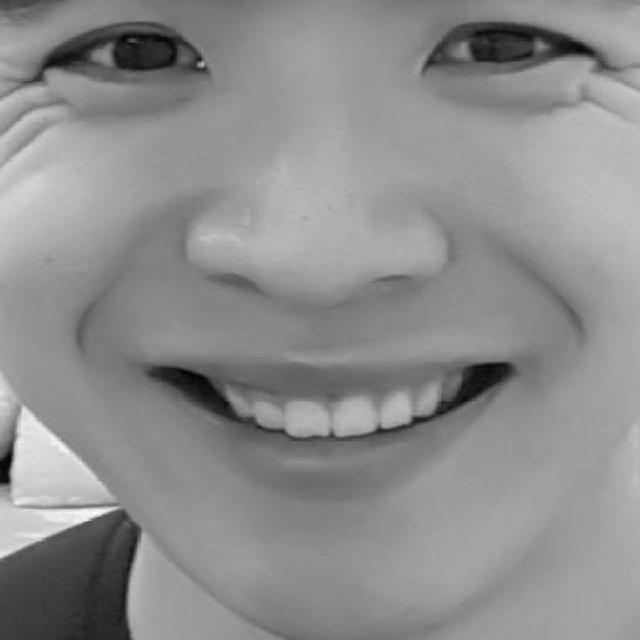happy: (35, 0, 640, 511)
